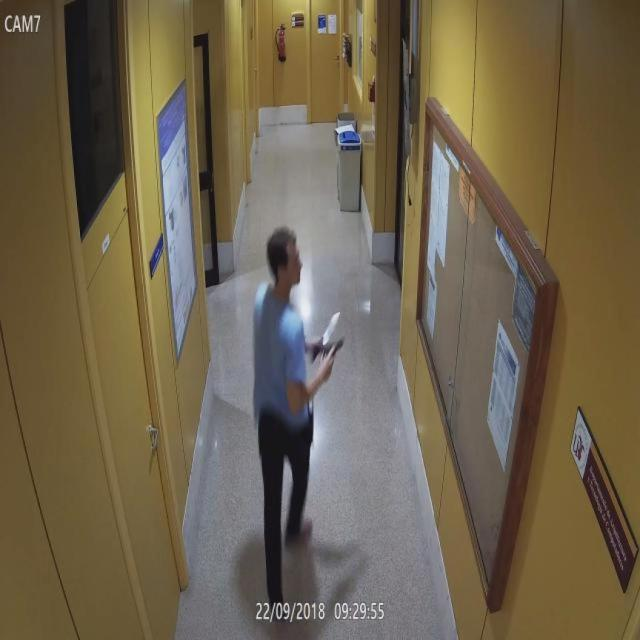pistol: (320, 338, 346, 386)
